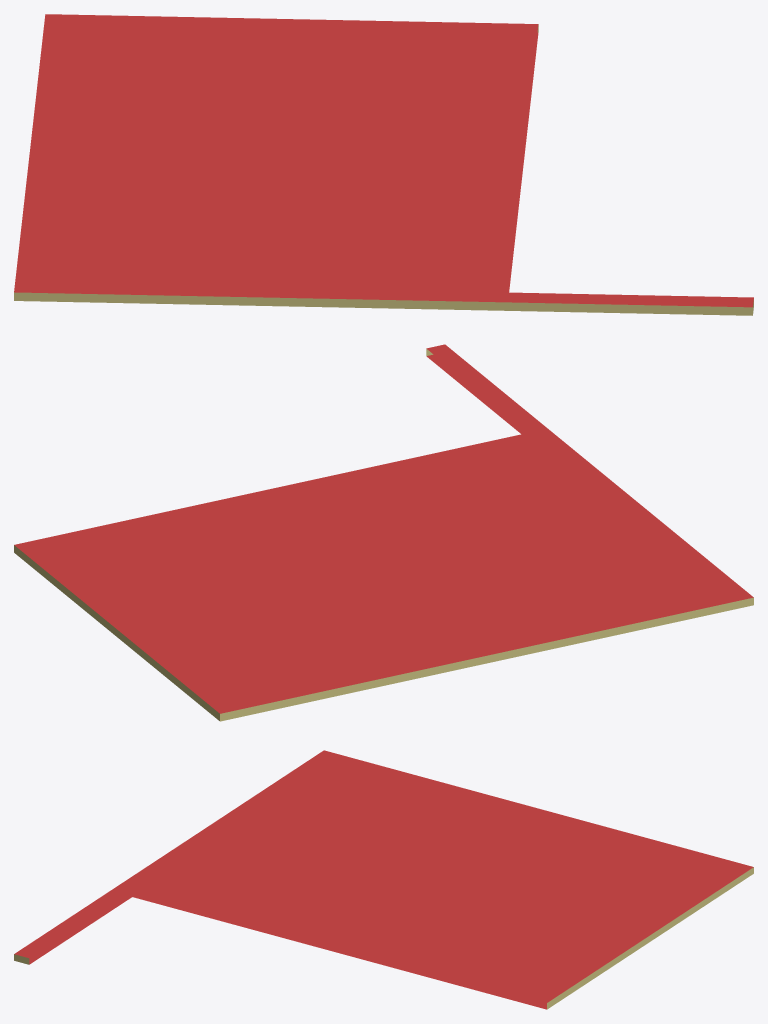
3 renders of one model, top to bottom at view 1: azimuth 30°, elevation 25°; view 2: azimuth 150°, elevation 25°; view 3: azimuth 270°, elevation 25°, orthographic. The views are drawn at different scales.
Bounding box in the file's own units: 8.24 × 10.19 × 0.1.
